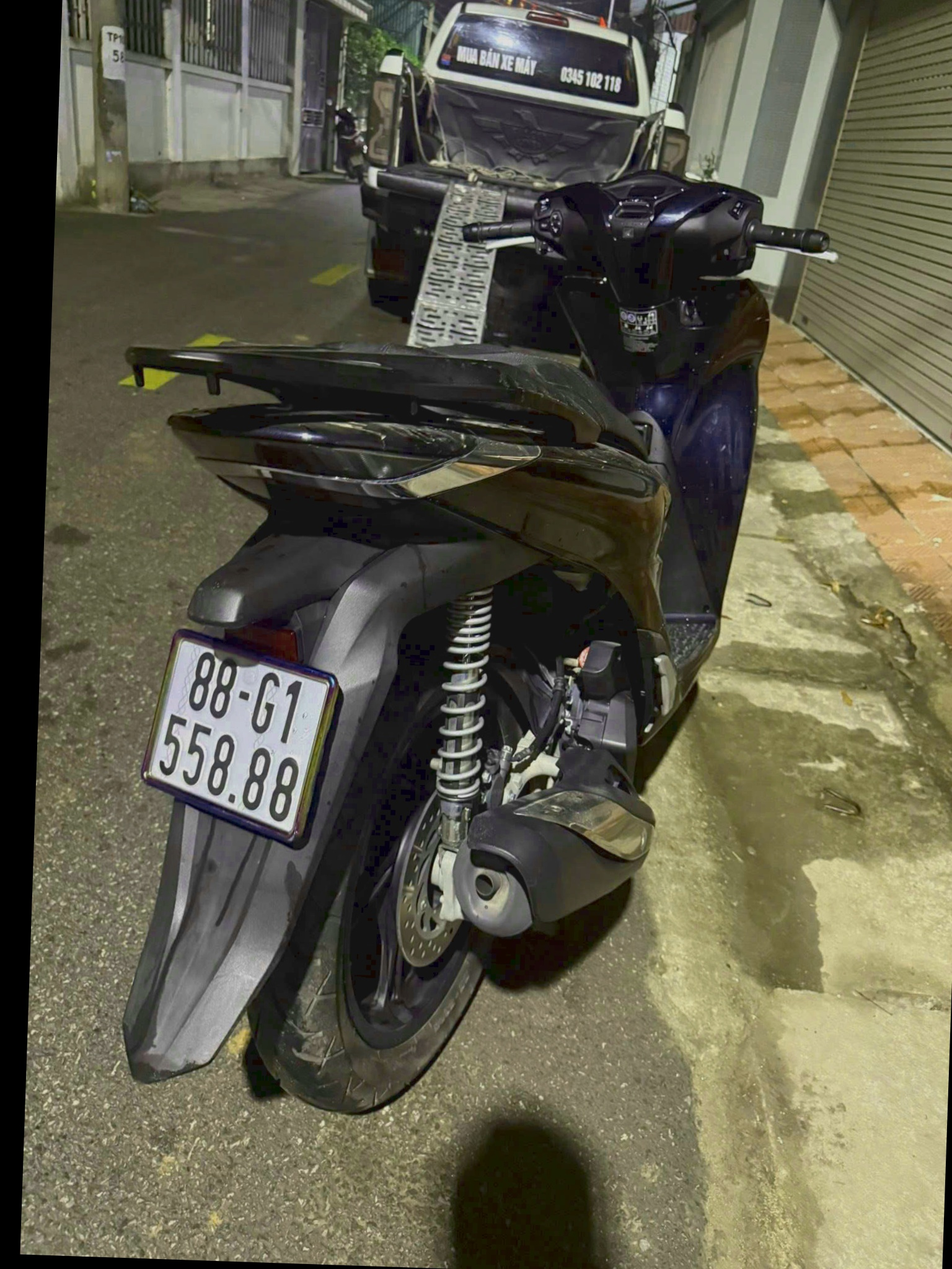Bien-so: (148, 654, 329, 850)
